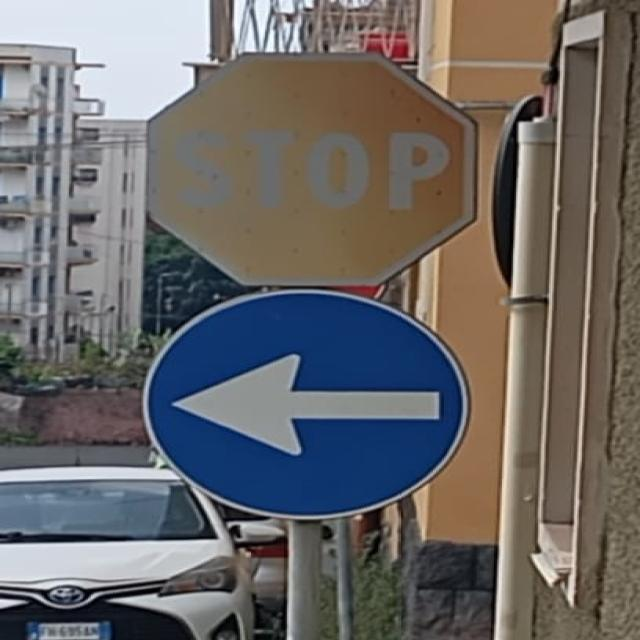prio_stop: (141, 50, 480, 292)
